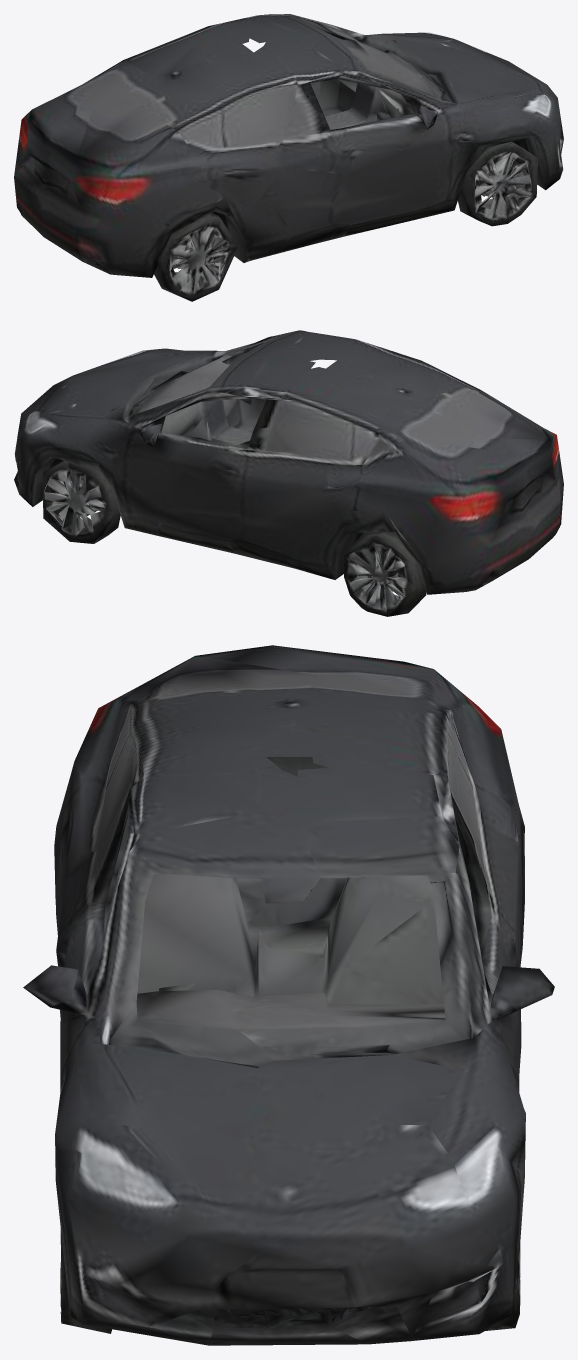
File: tesla_suv.glb
The picture shows the model from 3 angles, top to bottom: view 1: azimuth 30°, elevation 25°; view 2: azimuth 150°, elevation 25°; view 3: azimuth 270°, elevation 25°; orthographic projection. The views are drawn at different scales.
Visible parts, largest first — view 1: tripo_node_1706c21f-804e-49ce-ba9c-cc4d399d73b1; view 2: tripo_node_1706c21f-804e-49ce-ba9c-cc4d399d73b1; view 3: tripo_node_1706c21f-804e-49ce-ba9c-cc4d399d73b1.
Boxes of the visible parts, x1,y1,x2,y2 form: tripo_node_1706c21f-804e-49ce-ba9c-cc4d399d73b1: (14, 14, 563, 301); tripo_node_1706c21f-804e-49ce-ba9c-cc4d399d73b1: (14, 330, 563, 616); tripo_node_1706c21f-804e-49ce-ba9c-cc4d399d73b1: (23, 645, 554, 1345).
Bounding box in the file's own units: 4.41 × 1.6 × 2.05.
Materials: 1 (1 with a texture image).
